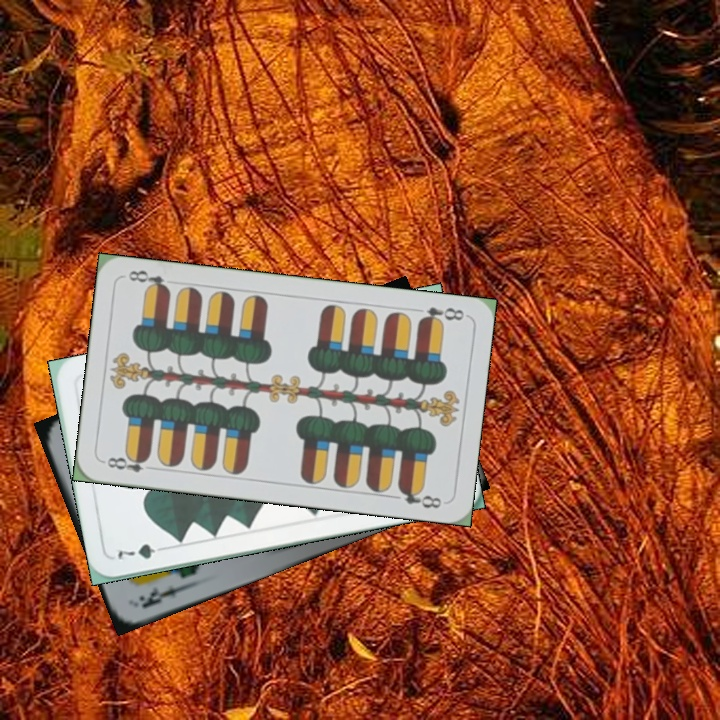E8: (100, 450, 158, 475), (414, 303, 467, 328)
EK: (135, 581, 190, 611)
G7: (113, 539, 170, 562)
